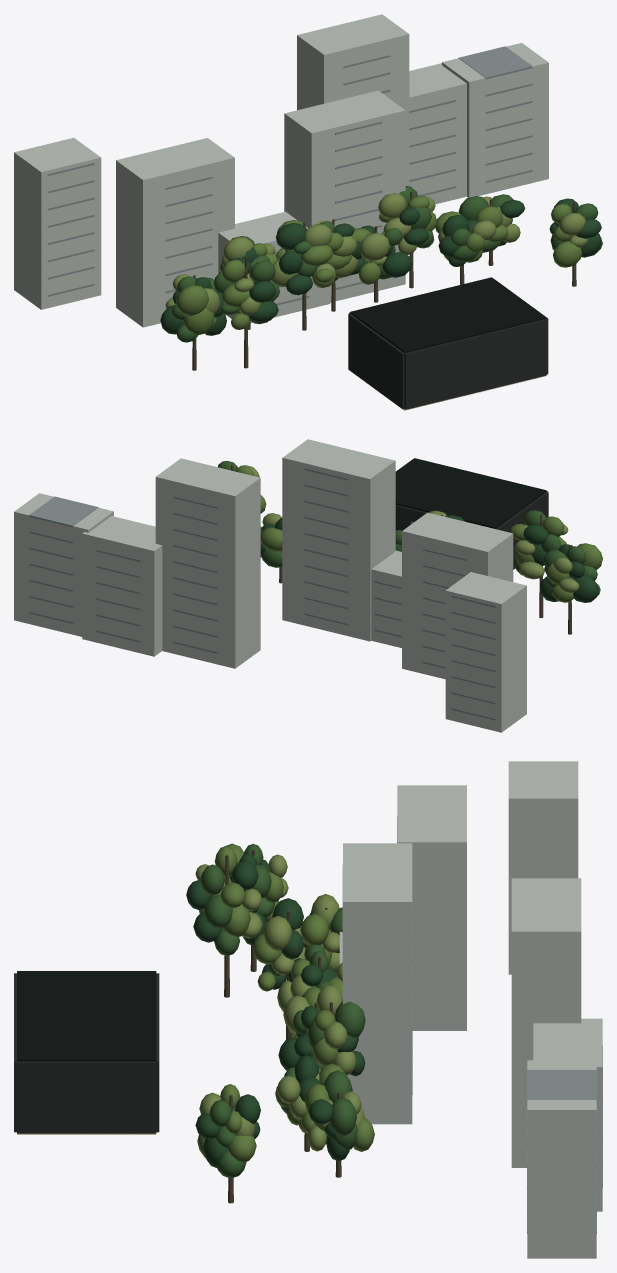
The model's file is scene-2-3dcodeverse.glb.
3 renders of one model, top to bottom at view 1: azimuth 30°, elevation 25°; view 2: azimuth 150°, elevation 25°; view 3: azimuth 270°, elevation 25°, orthographic. The views are drawn at different scales.
Visible parts, largest first — view 1: SkyDistantBuilding1, SkyDistantBuilding3, SkyDistantBuilding0, SkyDistantBuilding6, SkyDistantBuilding4, RoomShellRear, CeilingLid, SkyDistantBuilding5, RoomShellWest, SkyDistantBuilding2, SkyBuildingBand6_9.4, SkyTreeFoliage0_14 (+6 smaller); view 2: SkyDistantBuilding4, SkyDistantBuilding3, SkyDistantBuilding0, SkyDistantBuilding1, SkyDistantBuilding5, SkyDistantBuilding6, CeilingLid, SkyDistantBuilding2, SkyBuildingBand6_9.4, RoomShellWest, SkyTreeFoliage0_4, SkyTreeFoliage7_15 (+2 smaller); view 3: SkyDistantBuilding3, SkyDistantBuilding1, SkyDistantBuilding4, CeilingLid, SkyDistantBuilding6, RoomShellEast, SkyDistantBuilding0, SkyDistantBuilding5, SkyBuildingBand6_9.4, SkyTreeFoliage8_13, SkyTreeFoliage6_15, SkyTreeFoliage3_16 (+2 smaller).
Part boxes in pixels (x1,y1,x2,y2): SkyDistantBuilding1: (116, 138, 234, 327); SkyDistantBuilding3: (284, 90, 405, 302); SkyDistantBuilding0: (14, 137, 101, 309); SkyDistantBuilding6: (442, 43, 548, 197); SkyDistantBuilding4: (297, 14, 409, 186); RoomShellRear: (404, 319, 547, 409); CeilingLid: (350, 277, 545, 353); SkyDistantBuilding5: (409, 63, 466, 204); RoomShellWest: (348, 313, 404, 409); SkyDistantBuilding2: (218, 211, 330, 322); SkyBuildingBand6_9.4: (458, 46, 532, 79); SkyTreeFoliage0_14: (176, 285, 208, 316); SkyDistantBuilding4: (155, 458, 260, 668); SkyDistantBuilding3: (282, 439, 395, 641); SkyDistantBuilding0: (445, 572, 526, 732); SkyDistantBuilding1: (402, 512, 513, 679); SkyDistantBuilding5: (82, 516, 162, 656); SkyDistantBuilding6: (14, 493, 113, 636); CeilingLid: (395, 458, 546, 528); SkyDistantBuilding2: (371, 550, 401, 647); SkyBuildingBand6_9.4: (29, 496, 98, 527); RoomShellWest: (496, 492, 548, 569); SkyTreeFoliage0_4: (572, 575, 598, 602); SkyTreeFoliage7_15: (260, 527, 282, 551); SkyDistantBuilding3: (343, 843, 412, 1124); SkyDistantBuilding1: (397, 785, 466, 1030); SkyDistantBuilding4: (511, 878, 581, 1167); CeilingLid: (17, 971, 156, 1061); SkyDistantBuilding6: (527, 1060, 596, 1258); RoomShellEast: (17, 1061, 156, 1133); SkyDistantBuilding0: (508, 761, 578, 974); SkyDistantBuilding5: (533, 1018, 602, 1211); SkyBuildingBand6_9.4: (527, 1070, 596, 1101); SkyTreeFoliage8_13: (329, 1097, 356, 1136); SkyTreeFoliage6_15: (334, 1001, 365, 1037); SkyTreeFoliage3_16: (263, 916, 291, 951).
Size of what is drawn, in the model's own units: 43.73 by 15.14 by 33.88.
76 materials, 3 textured.
